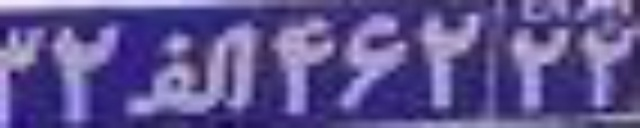2: (418, 11, 483, 115), (51, 21, 116, 121), (510, 27, 569, 114), (582, 29, 635, 109)
3: (0, 27, 45, 127)
4: (268, 14, 333, 115)
6: (336, 12, 408, 115)
alef: (122, 21, 258, 114)
